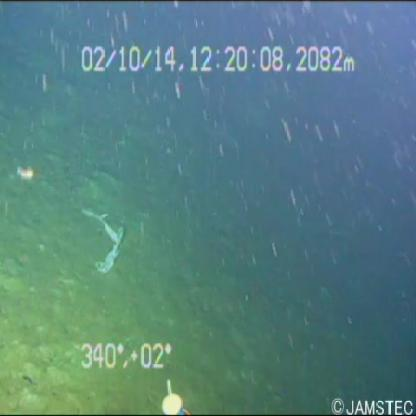Rov: (152, 379, 196, 416)
Rác: (74, 194, 131, 281)
